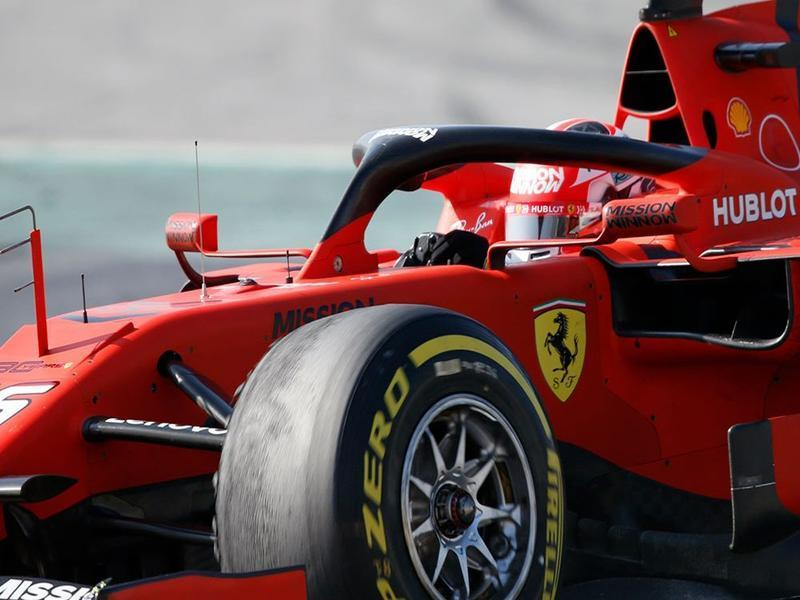f1: (1, 12, 800, 596)
